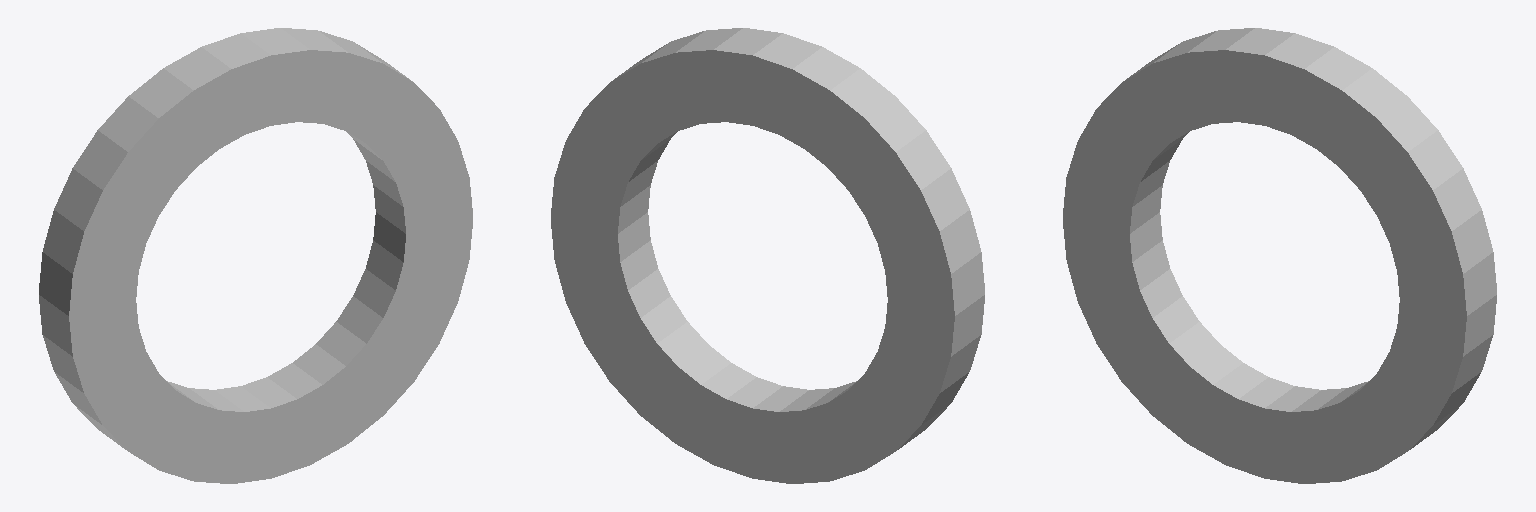
The model's file is Arrow_59.obj.
The picture shows the model from 3 angles: view 1: azimuth 30°, elevation 25°; view 2: azimuth 150°, elevation 25°; view 3: azimuth 330°, elevation 25°; orthographic projection.
Visible parts, largest first — view 1: Arrow_59; view 2: Arrow_59; view 3: Arrow_59.
Boxes of the visible parts, box(x1,y1,x2,y2) form: Arrow_59: box(39, 28, 472, 483); Arrow_59: box(551, 28, 984, 483); Arrow_59: box(1063, 28, 1496, 483).
Size of the model in its own units: 3 by 3 by 0.3909.